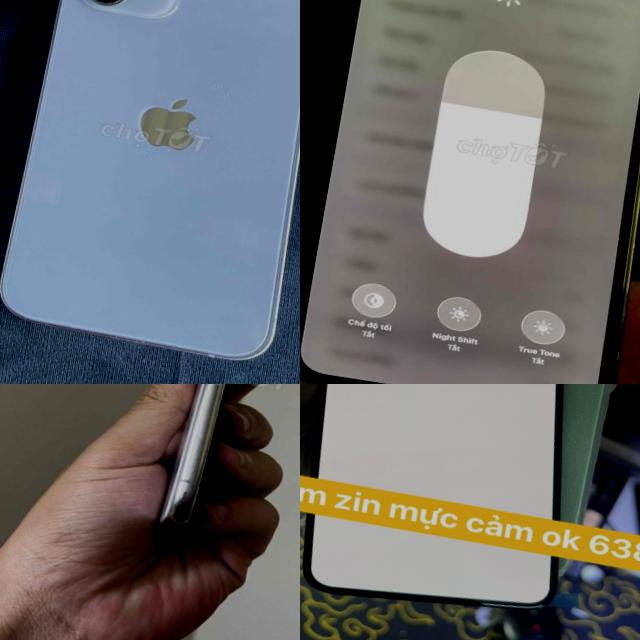gen_11: (300, 0, 640, 384)
gen_12_13: (0, 0, 300, 370)
gen_x_xs: (300, 384, 620, 630), (158, 384, 229, 529)
scratch: (168, 482, 200, 518)
